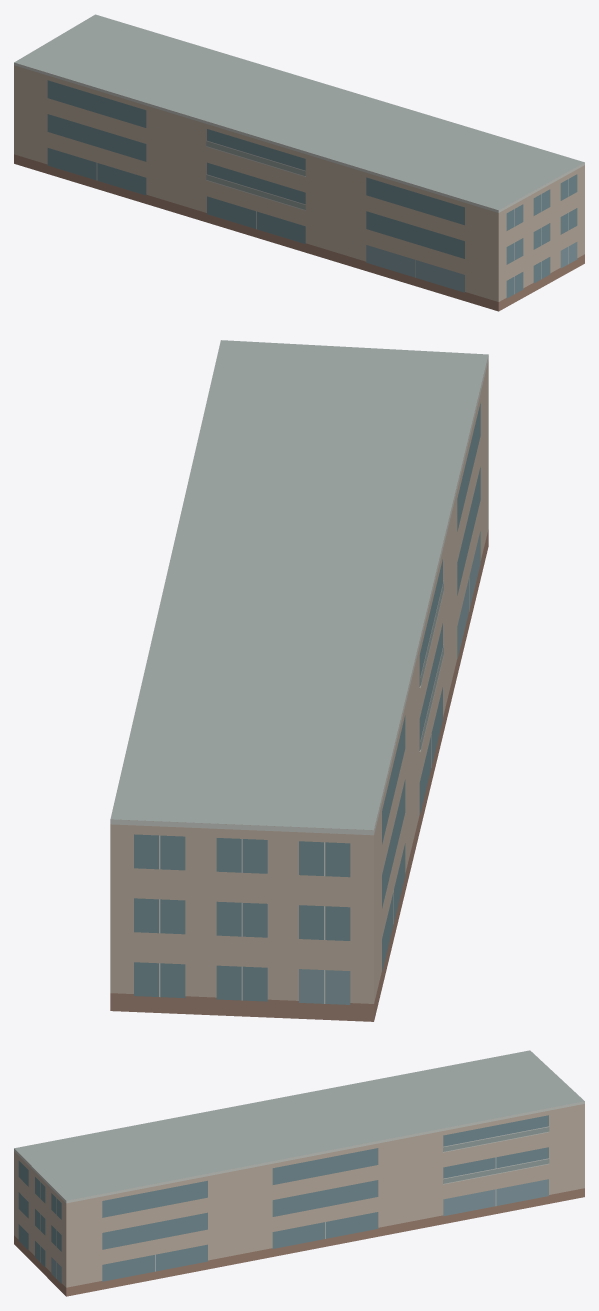
File: survey-upis-32529771.glb
3 views of the same model, one above another, from view 1: azimuth 30°, elevation 25°; view 2: azimuth 150°, elevation 25°; view 3: azimuth 270°, elevation 25° (orthographic). The views are drawn at different scales.
Visible parts, largest first — view 1: survey-upis-32529771.tmp; view 2: survey-upis-32529771.tmp; view 3: survey-upis-32529771.tmp.
Boxes of the visible parts, x1,y1,x2,y2 form: survey-upis-32529771.tmp: (14, 14, 584, 311); survey-upis-32529771.tmp: (110, 340, 488, 1021); survey-upis-32529771.tmp: (14, 1050, 584, 1296).
Size of the model in its own units: 30.84 by 9.15 by 49.42.
